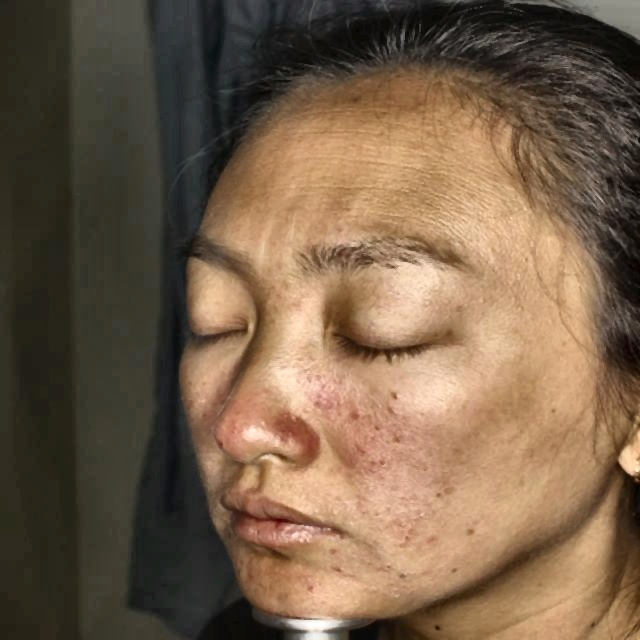pustule: (238, 556, 264, 584)
